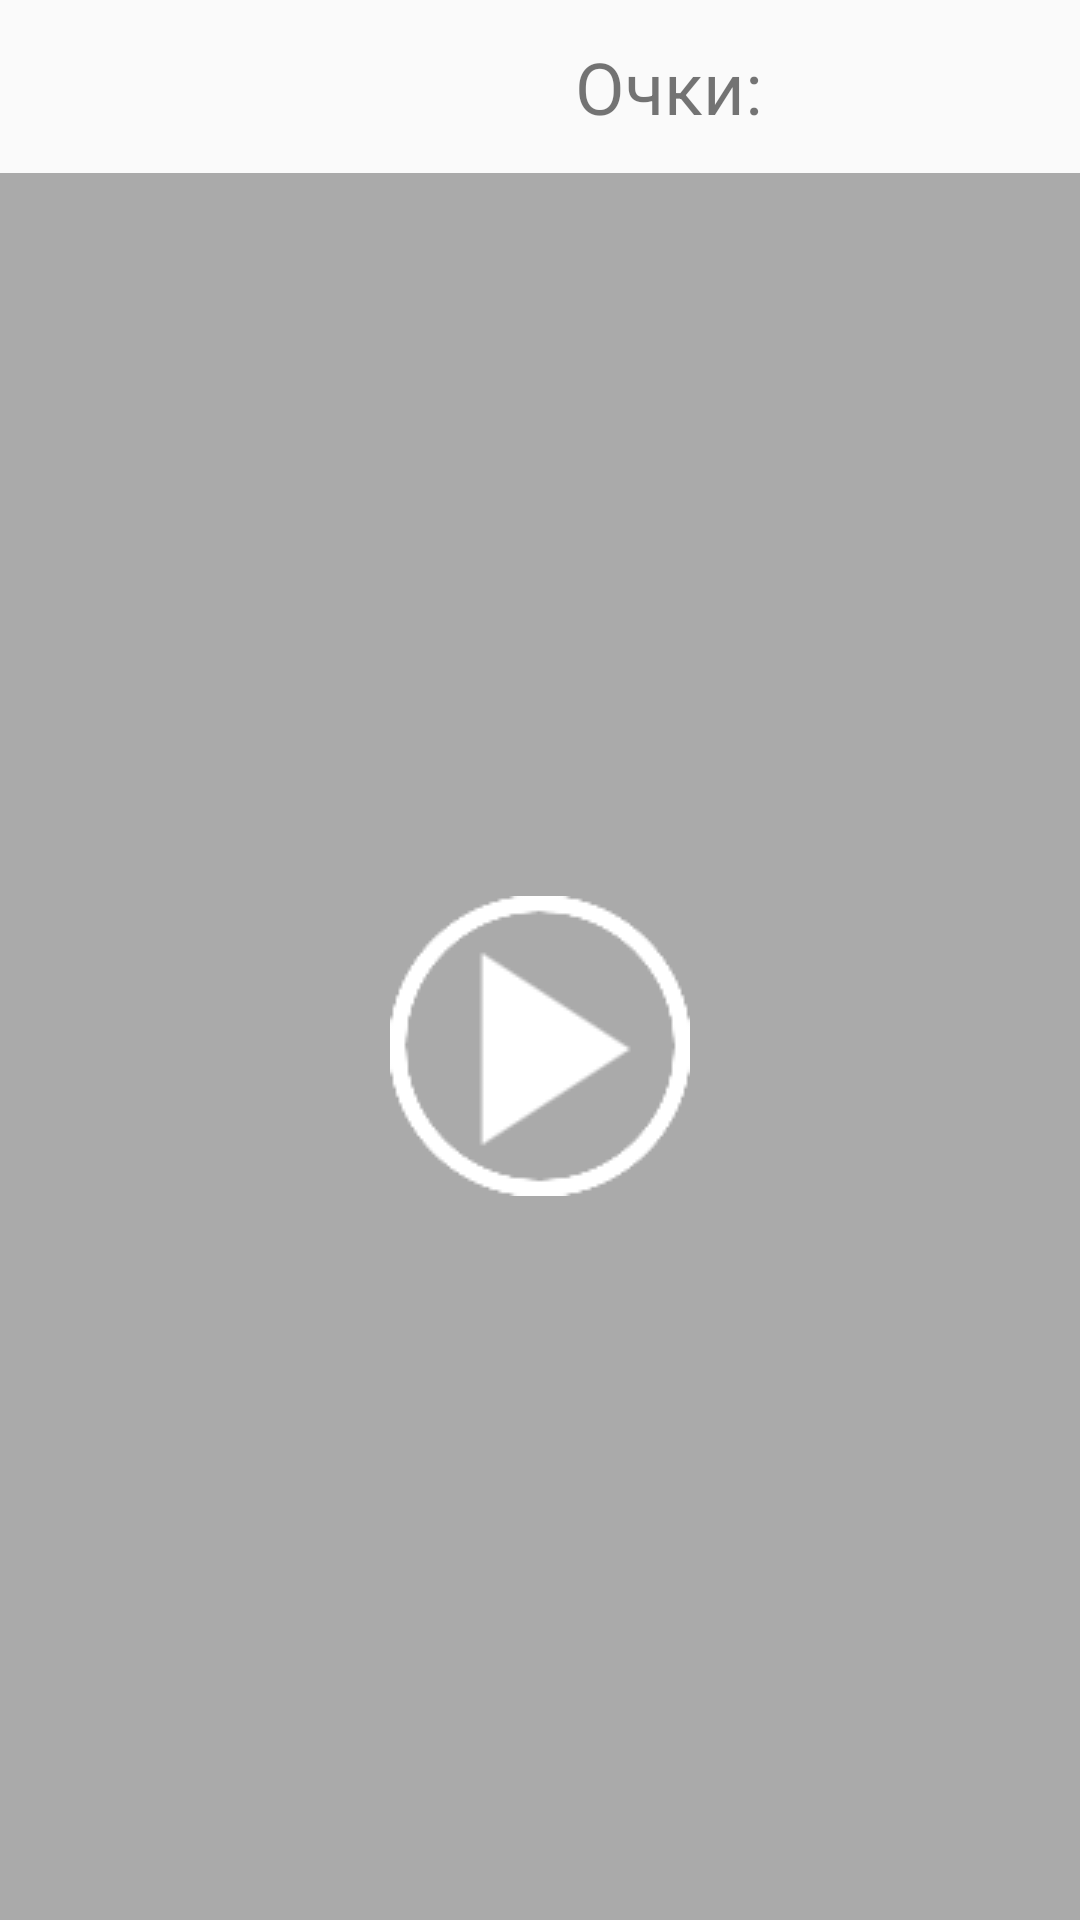

Screen size 1080*1920. Icon name, then its box in pixels as (x1, y1, x2, y2):
start game: (390, 896, 690, 1196)
